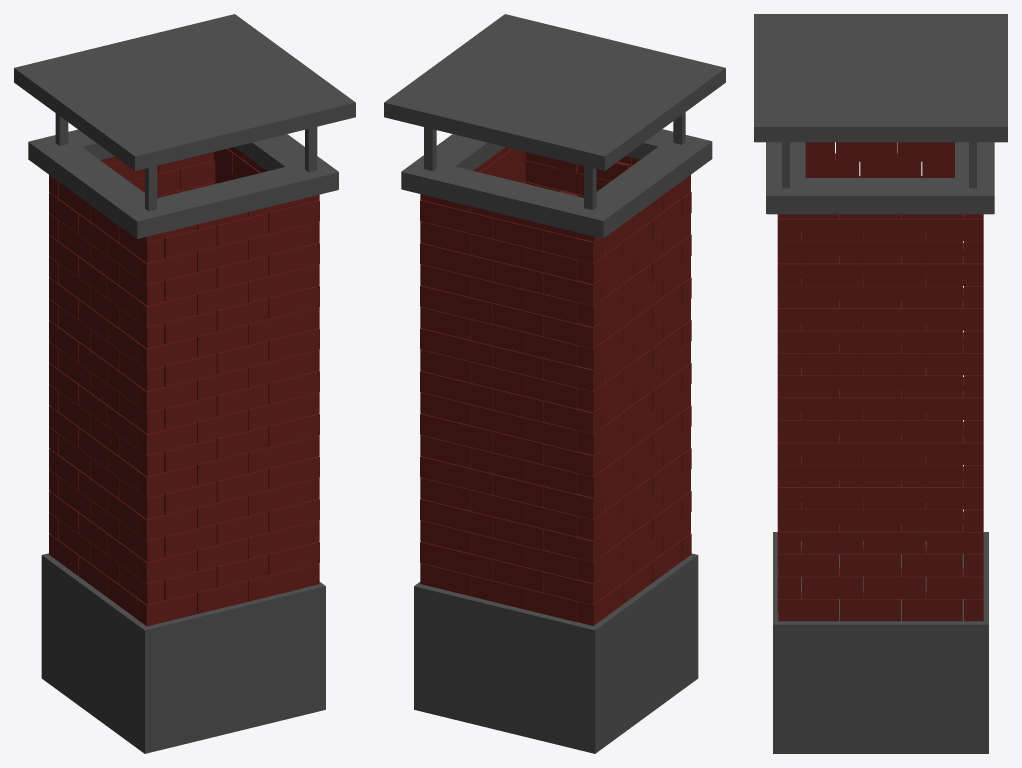
Rendered from Chimney.obj.
The picture shows the model from 3 angles, left to right: view 1: azimuth 30°, elevation 25°; view 2: azimuth 150°, elevation 25°; view 3: azimuth 270°, elevation 25°; orthographic projection. The views are drawn at different scales.
Visible parts, largest first — view 1: Box001, Box247, Box239, Box242, Box241, Box032, Box128, Box152, Box009, Box104, Box056, Box080 (+102 smaller); view 2: Box001, Box247, Box240, Box242, Box241, Box061, Box157, Box181, Box016, Box109, Box133, Box037 (+101 smaller); view 3: Box247, Box001, Box241, Box039, Box042, Box207, Box210, Box018, Box063, Box066, Box087, Box090 (+71 smaller).
Part boxes in pixels (x1,y1,x2,y2): Box001: (41, 553, 325, 753); Box247: (14, 14, 355, 170); Box239: (119, 158, 338, 238); Box242: (28, 135, 170, 238); Box241: (234, 134, 338, 189); Box032: (137, 550, 196, 583); Box128: (137, 379, 196, 412); Box152: (137, 337, 196, 370); Box009: (137, 593, 196, 626); Box104: (137, 422, 196, 455); Box056: (137, 507, 196, 540); Box080: (137, 465, 196, 498); Box001: (414, 553, 698, 753); Box247: (384, 14, 725, 170); Box240: (402, 162, 621, 238); Box242: (570, 135, 712, 238); Box241: (401, 134, 505, 189); Box061: (544, 486, 602, 519); Box157: (544, 315, 602, 348); Box181: (544, 273, 602, 305); Box016: (544, 572, 602, 604); Box109: (544, 401, 602, 433); Box133: (544, 358, 602, 391); Box037: (544, 529, 602, 561); Box247: (754, 14, 1007, 142); Box001: (773, 532, 988, 753); Box241: (766, 178, 993, 214); Box039: (864, 524, 925, 554); Box042: (802, 524, 863, 554); Box207: (864, 214, 925, 241); Box210: (802, 214, 863, 241); Box018: (864, 568, 925, 598); Box063: (864, 479, 925, 509); Box066: (802, 479, 863, 509); Box087: (864, 434, 925, 464); Box090: (802, 434, 863, 464).
Size of the model in its own units: 6.55 by 17.25 by 6.22.
